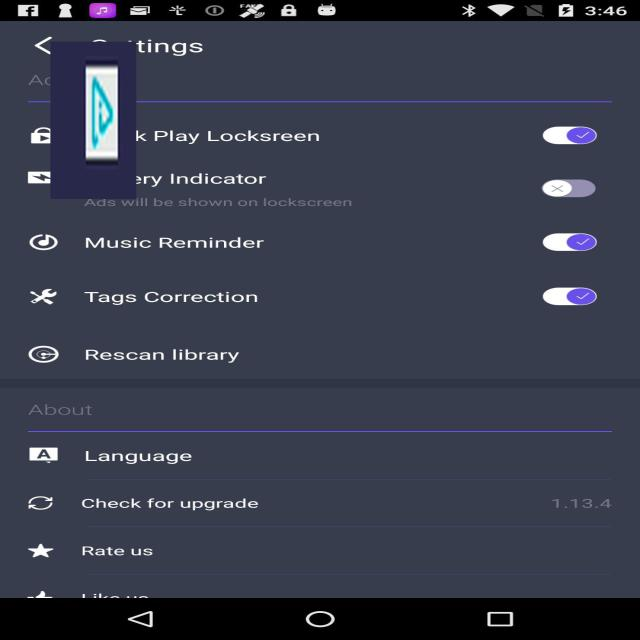sneaking: (50, 42, 136, 199)
